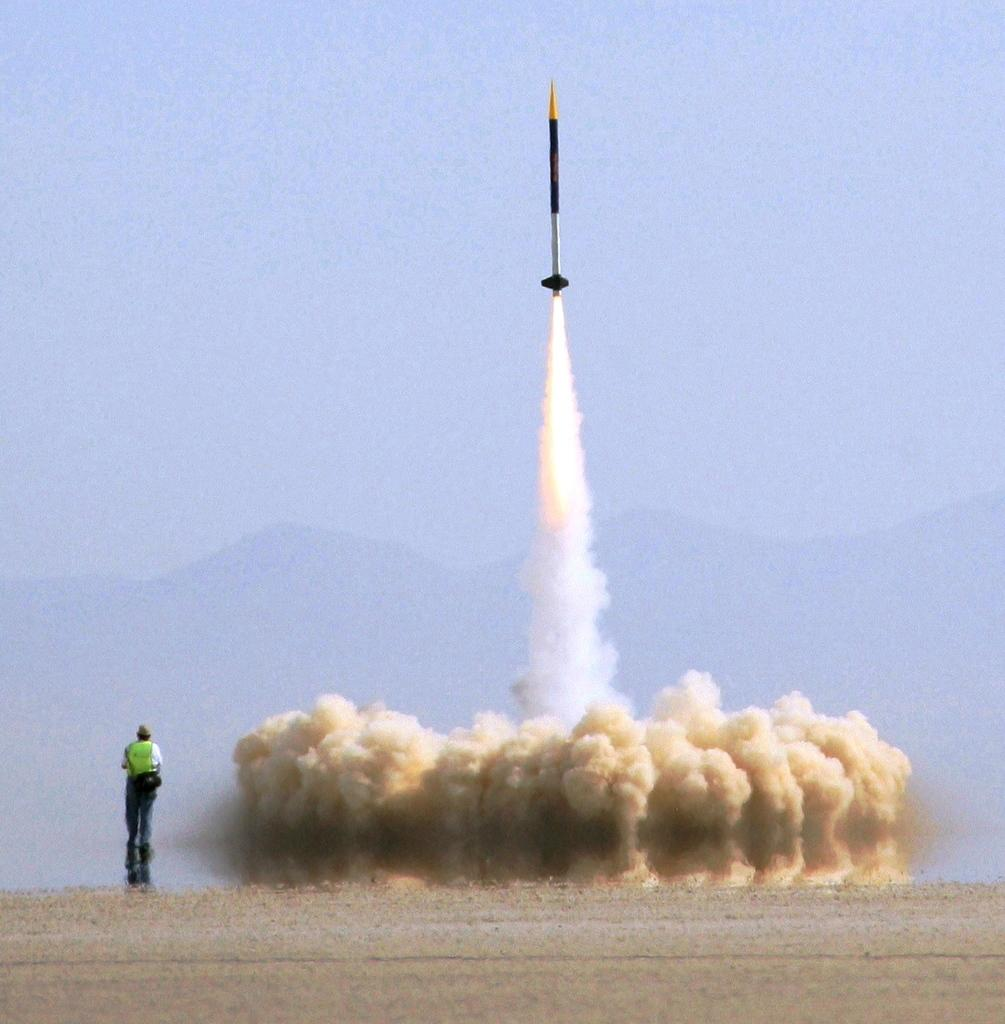Missile: (537, 77, 571, 297)
